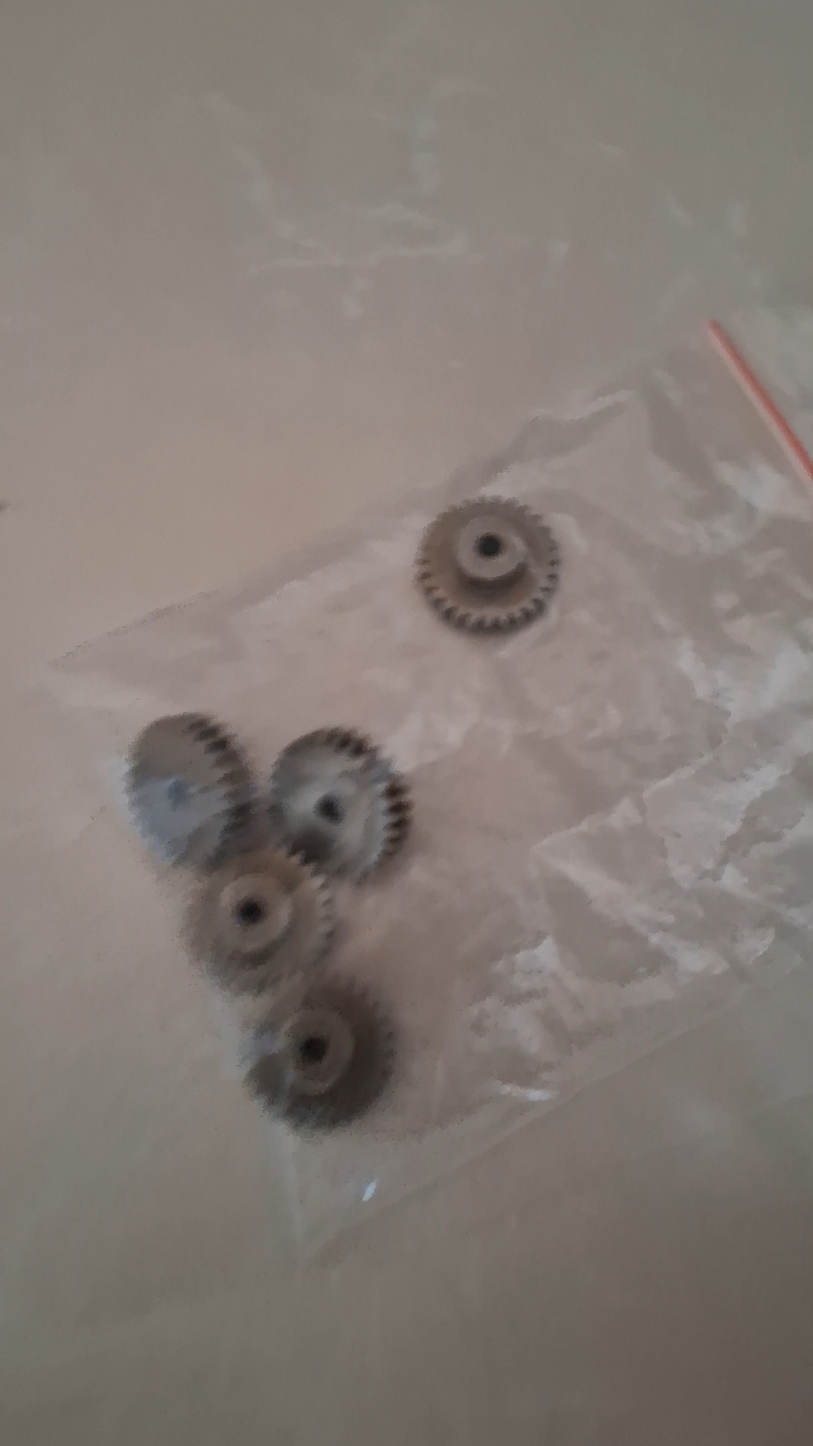spur gear: (245, 978, 394, 1130), (187, 847, 334, 995), (269, 728, 410, 878), (416, 496, 560, 632), (125, 713, 252, 867)
